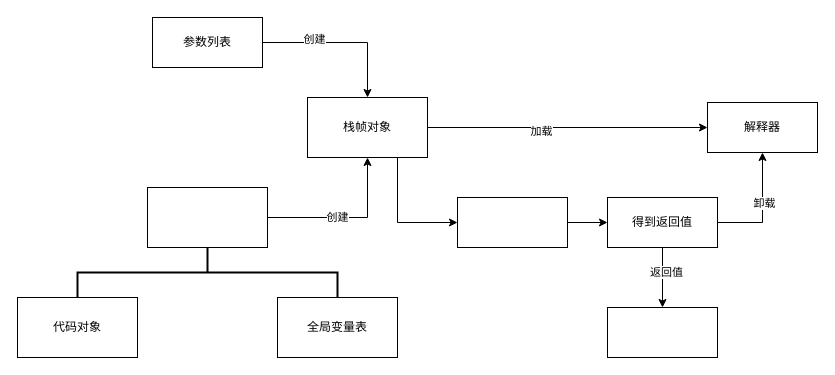
The diagram is 835 pixels wide and 375 high, and some of its shapes have lost their labels. The shapes that lost their labels are listed below. From the top down, each one's box as (x1, y1, x2, y2) in pixels, then its label:
(146, 186, 268, 248): 函数对象
(456, 196, 568, 248): 运行
(606, 306, 718, 358): 持有PyFunction对象的对象
